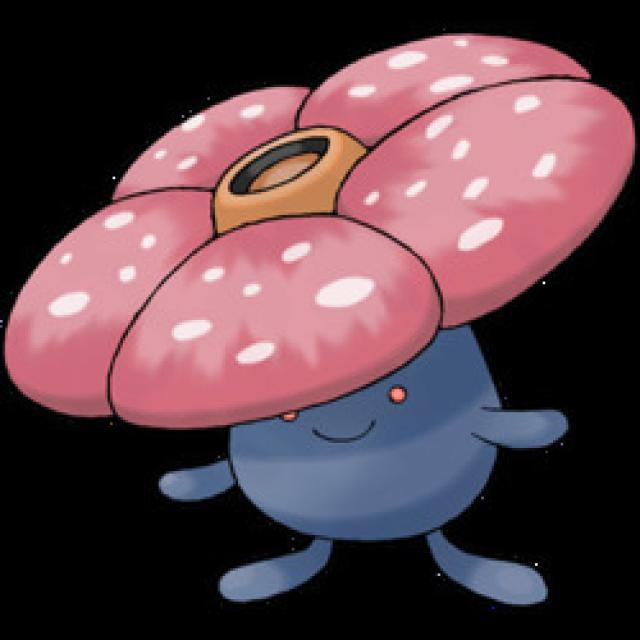Vileplume: (197, 45, 527, 574)
